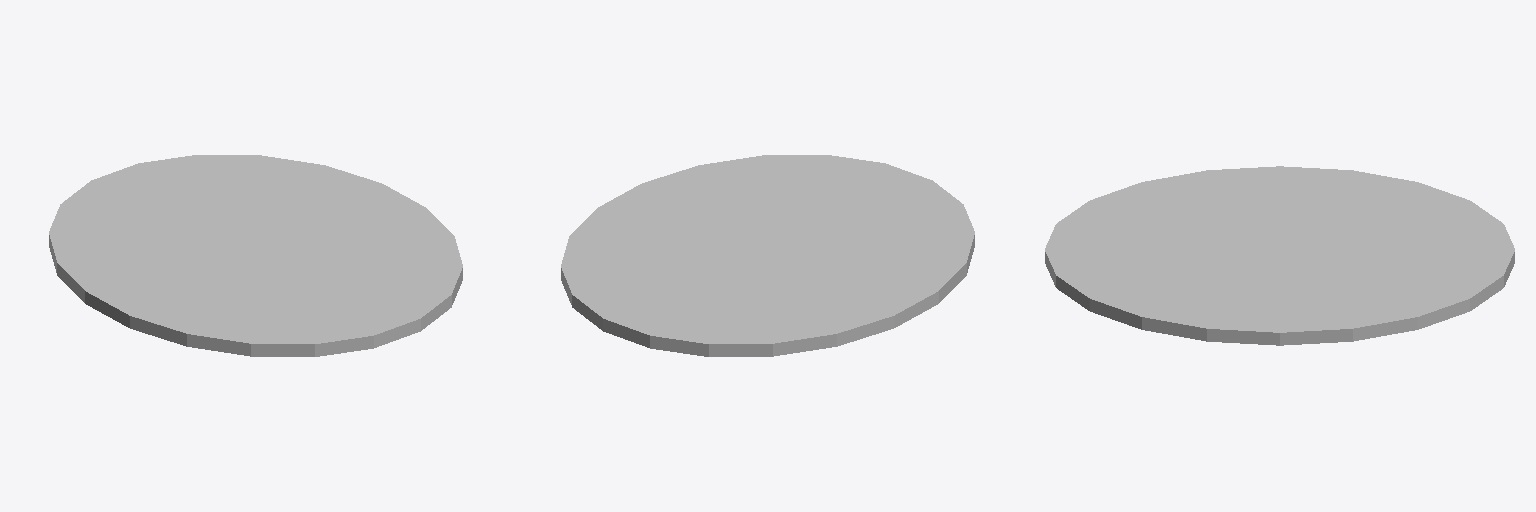
Rendered from platformWindow.obj.
3 renders of one model, left to right at view 1: azimuth 30°, elevation 25°; view 2: azimuth 150°, elevation 25°; view 3: azimuth 270°, elevation 25°, orthographic.
Parts seen in each view (by area): view 1: pCylinder2; view 2: pCylinder2; view 3: pCylinder2.
Boxes of the visible parts, x1=… form: pCylinder2: x1=49, y1=155, x2=462, y2=356; pCylinder2: x1=561, y1=155, x2=974, y2=356; pCylinder2: x1=1045, y1=166, x2=1514, y2=345.
Size of the model in its own units: 11.55 by 0.4159 by 13.8.